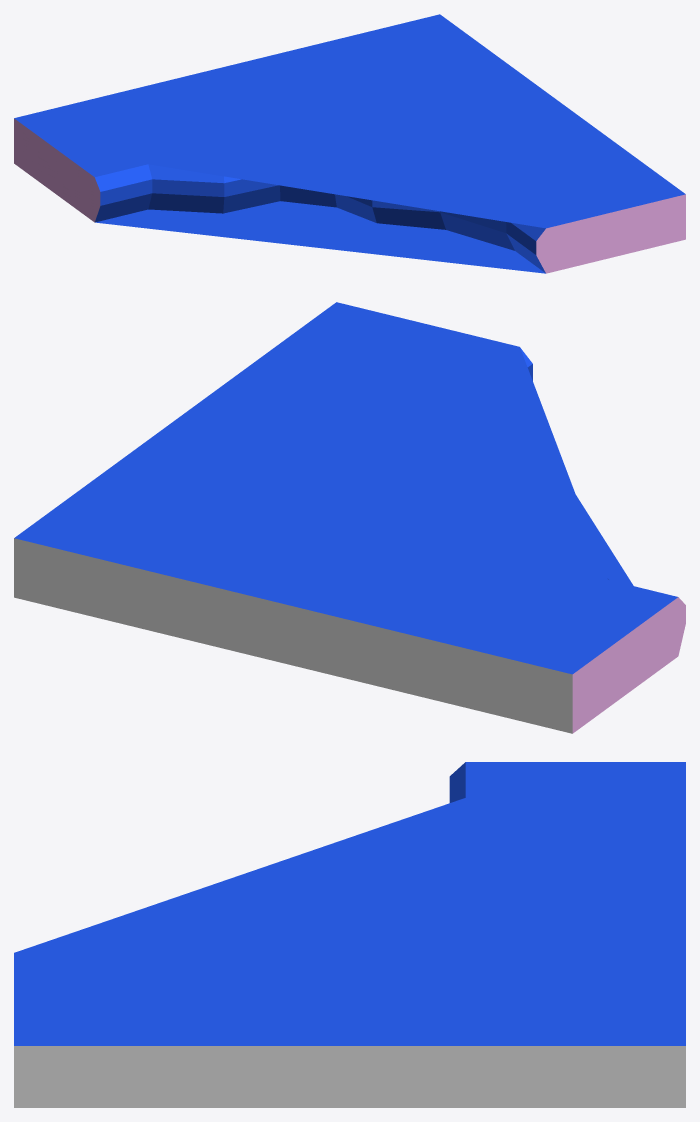
Rendered from Iceberg_Curve_Inner_4x4_2.glb.
3 renders of one model, top to bottom at view 1: azimuth 30°, elevation 25°; view 2: azimuth 150°, elevation 25°; view 3: azimuth 270°, elevation 25°, orthographic. The views are drawn at different scales.
Visible parts, largest first — view 1: Iceberg_Curve_Inner_4x4_2; view 2: Iceberg_Curve_Inner_4x4_2; view 3: Iceberg_Curve_Inner_4x4_2.
Part boxes in pixels (x1,y1,x2,y2): Iceberg_Curve_Inner_4x4_2: [14, 14, 685, 273]; Iceberg_Curve_Inner_4x4_2: [14, 302, 685, 733]; Iceberg_Curve_Inner_4x4_2: [14, 762, 685, 1107].
Bounding box in the file's own units: 400 × 40.63 × 400.
